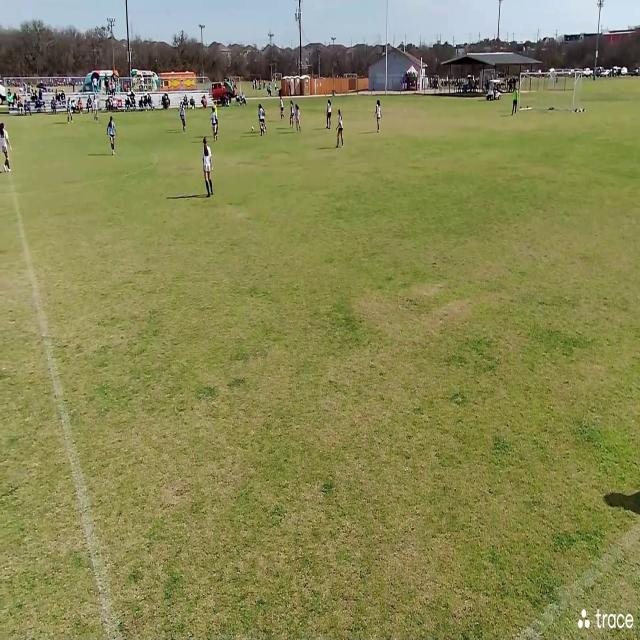ball: (252, 126, 254, 131)
team1: (108, 115, 117, 156), (258, 106, 266, 140), (68, 96, 72, 124)
team2: (202, 136, 216, 198), (1, 128, 12, 176), (337, 109, 346, 150), (212, 103, 220, 143), (376, 100, 382, 136), (93, 94, 99, 123), (295, 104, 301, 133), (280, 95, 286, 122), (327, 99, 332, 130), (181, 107, 187, 131), (290, 100, 294, 128), (179, 101, 182, 118)
